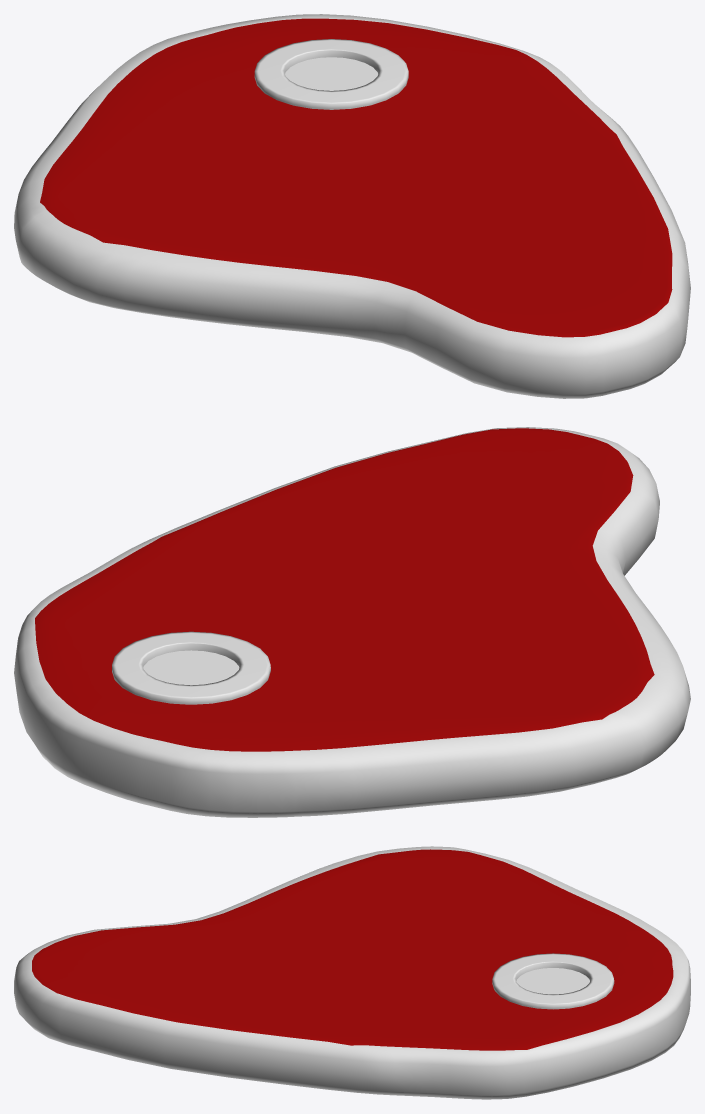
The model's file is Proto_Steak_01.fbx.
3 renders of one model, top to bottom at view 1: azimuth 30°, elevation 25°; view 2: azimuth 150°, elevation 25°; view 3: azimuth 270°, elevation 25°, orthographic. The views are drawn at different scales.
Visible parts, largest first — view 1: Proto_Steak_01; view 2: Proto_Steak_01; view 3: Proto_Steak_01.
Boxes of the visible parts, x1=… form: Proto_Steak_01: x1=14, y1=14, x2=690, y2=398; Proto_Steak_01: x1=14, y1=427, x2=690, y2=817; Proto_Steak_01: x1=14, y1=846, x2=690, y2=1099.
Bounding box in the file's own units: 9.59 × 1.19 × 12.46.
